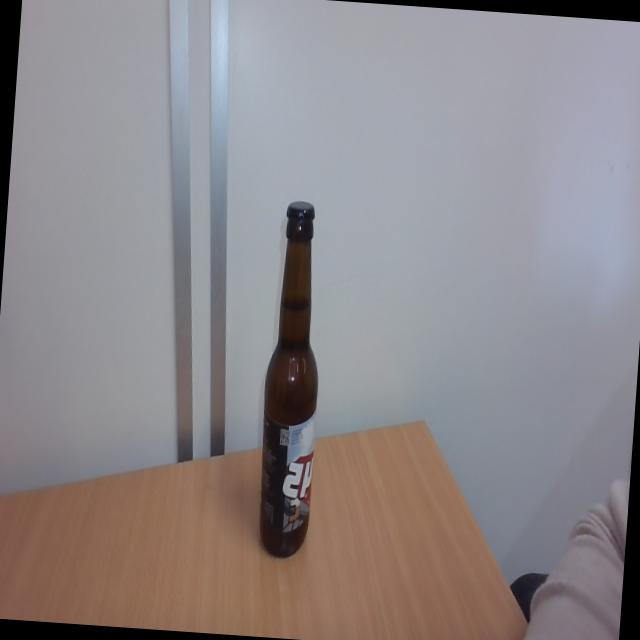Bottle: (253, 220, 329, 556)
Cap: (284, 198, 318, 224)
Label: (256, 408, 316, 538)
